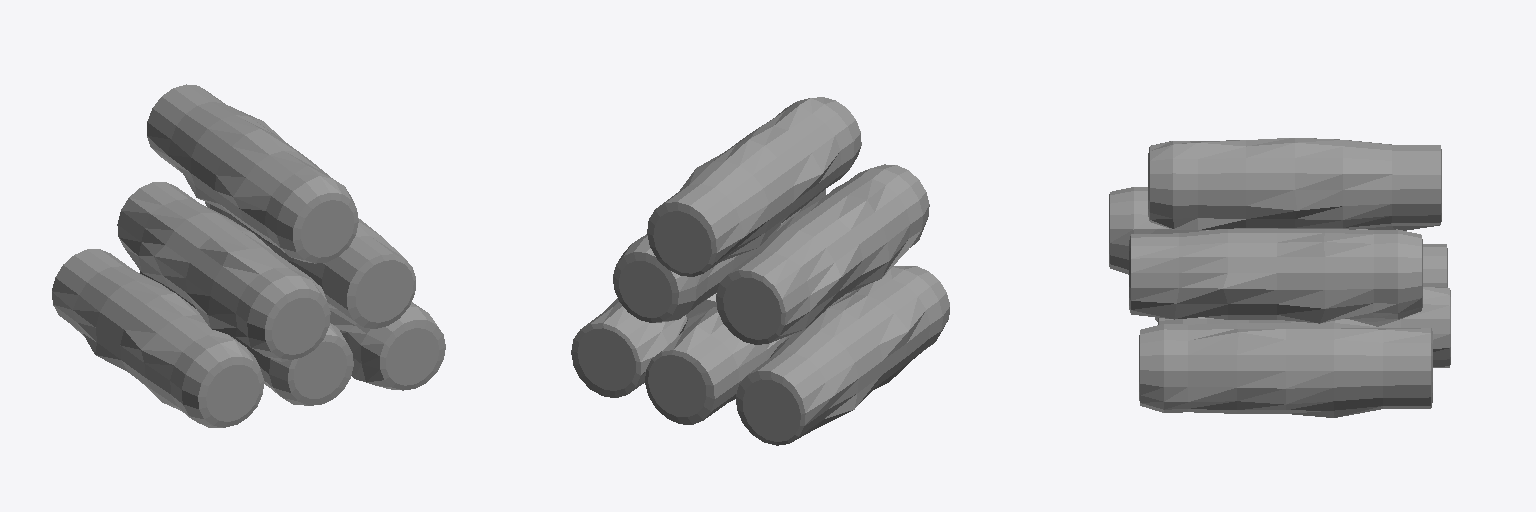
The model's file is Wood.obj.
The picture shows the model from 3 angles: view 1: azimuth 30°, elevation 25°; view 2: azimuth 150°, elevation 25°; view 3: azimuth 270°, elevation 25°; orthographic projection.
Visible parts, largest first — view 1: Wood.004_Cylinder.009; view 2: Wood.004_Cylinder.009; view 3: Wood.004_Cylinder.009.
Part boxes in pixels (left/top/right/bottom): Wood.004_Cylinder.009: left=52, top=84, right=445, bottom=427; Wood.004_Cylinder.009: left=571, top=97, right=949, bottom=445; Wood.004_Cylinder.009: left=1109, top=138, right=1450, bottom=417.
Bounding box in the file's own units: 3.22 × 2.86 × 3.74.